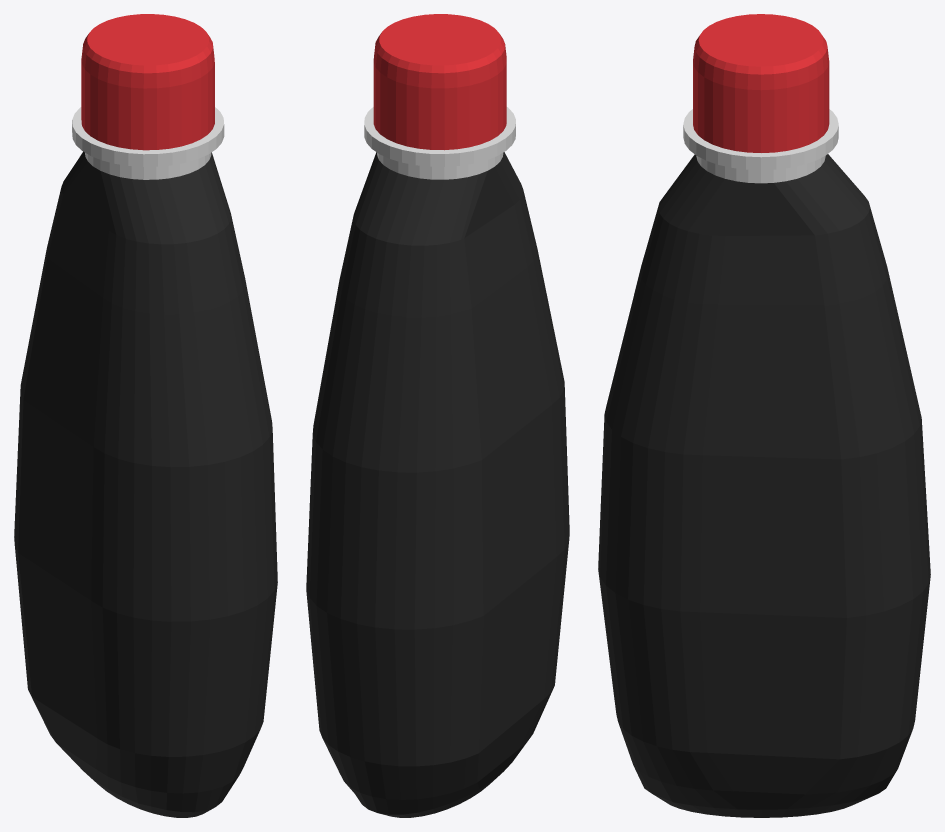
File: soce.fbx
3 views of the same model, side by side, from view 1: azimuth 30°, elevation 25°; view 2: azimuth 150°, elevation 25°; view 3: azimuth 270°, elevation 25° (orthographic). The views are drawn at different scales.
Parts seen in each view (by area): view 1: 円柱; view 2: 円柱; view 3: 円柱.
Part boxes in pixels (x1,y1,x2,y2): 円柱: (14,14,277,817); 円柱: (306,14,569,817); 円柱: (598,14,930,817).
Size of the model in its own units: 80.18 by 331 by 130.
